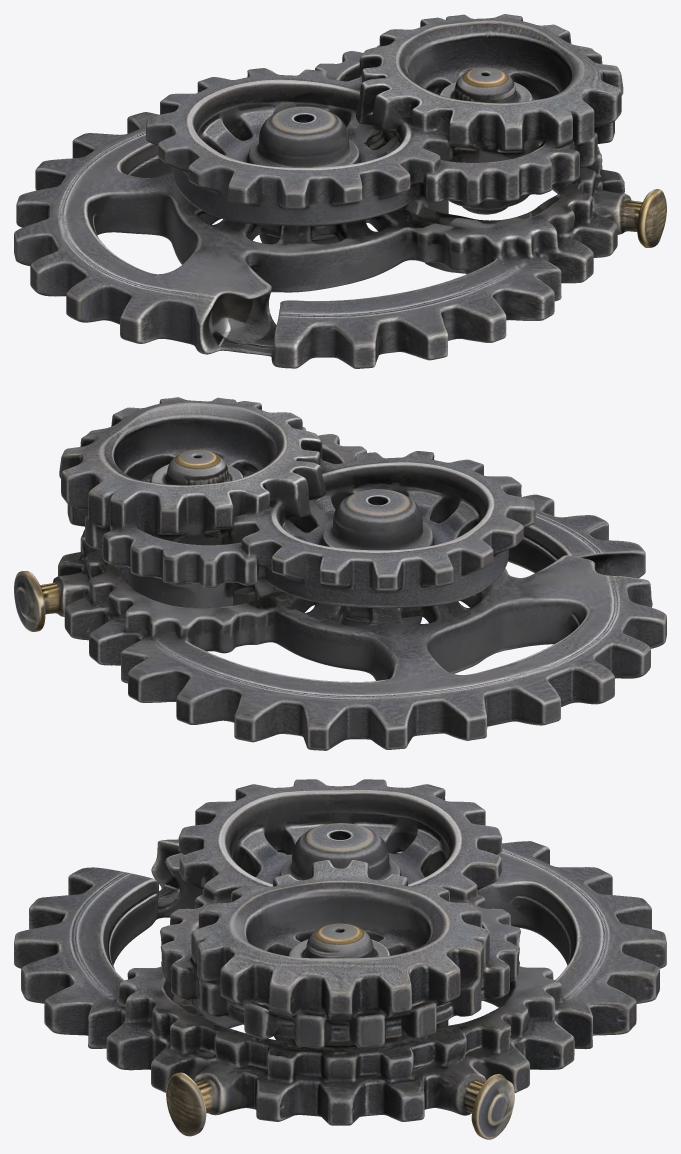
File: gears.glb
3 views of the same model, one above another, from view 1: azimuth 30°, elevation 25°; view 2: azimuth 150°, elevation 25°; view 3: azimuth 270°, elevation 25° (orthographic). The views are drawn at different scales.
Size of the model in its own units: 1.9 by 0.5137 by 1.8.
1 material, 1 textured.
